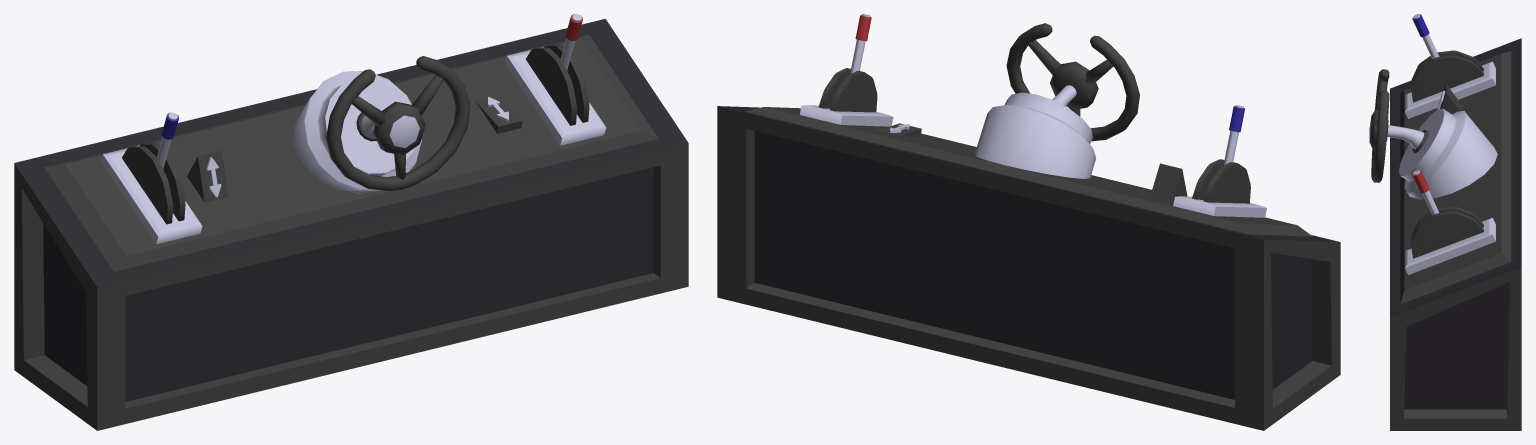
Rendered from Prototype_ControlTable.fbx.
The picture shows the model from 3 angles, left to right: view 1: azimuth 30°, elevation 25°; view 2: azimuth 150°, elevation 25°; view 3: azimuth 270°, elevation 25°; orthographic projection. The views are drawn at different scales.
Parts seen in each view (by area): view 1: Table, SteeringWheel, SteeringWheel_Base, Lever2_Base, Lever1_Base, Lever1_Arrow, Lever2_Arrow; view 2: Table, SteeringWheel_Base, SteeringWheel, Lever2_Base, Lever1_Base, Lever1_Arrow, Lever2, Lever1; view 3: Table, SteeringWheel_Base, Lever2_Base, Lever1_Base, SteeringWheel, Lever1_Arrow, Lever2, Lever1.
Boxes of the visible parts, <box> form: Table: <box>14,18,688,430</box>; SteeringWheel: <box>326,56,470,191</box>; SteeringWheel_Base: <box>290,71,421,193</box>; Lever2_Base: <box>505,44,606,145</box>; Lever1_Base: <box>101,143,202,244</box>; Lever1_Arrow: <box>187,150,228,202</box>; Lever2_Arrow: <box>475,94,522,133</box>; Table: <box>717,106,1340,430</box>; SteeringWheel_Base: <box>974,85,1096,178</box>; SteeringWheel: <box>1006,23,1139,141</box>; Lever2_Base: <box>799,68,893,126</box>; Lever1_Base: <box>1173,159,1266,217</box>; Lever1_Arrow: <box>1150,163,1187,201</box>; Lever2: <box>850,14,871,74</box>; Lever1: <box>1223,105,1244,164</box>; Table: <box>1390,38,1521,430</box>; SteeringWheel_Base: <box>1387,108,1497,199</box>; Lever2_Base: <box>1405,206,1495,274</box>; Lever1_Base: <box>1405,50,1495,118</box>; SteeringWheel: <box>1369,69,1389,182</box>; Lever1_Arrow: <box>1436,84,1463,114</box>; Lever2: <box>1412,170,1439,215</box>; Lever1: <box>1412,14,1439,58</box>.
Size of the model in its own units: 8814 by 4243 by 2482.
